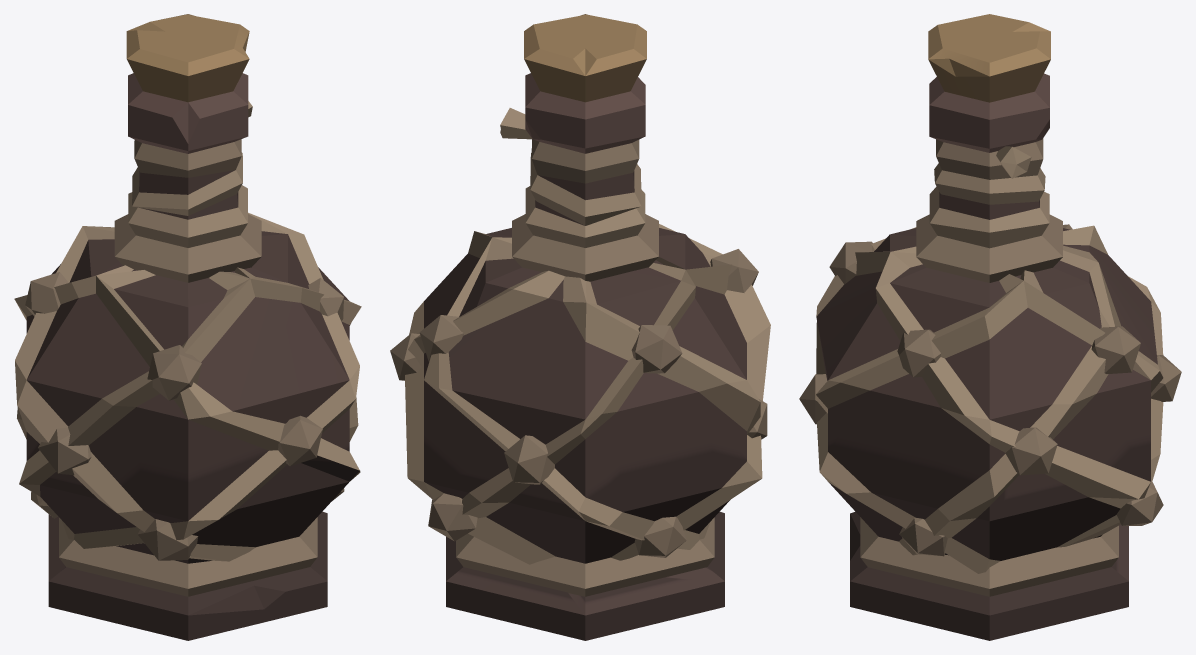
The model's file is SM_Prop_Bottle_02.fbx.
The picture shows the model from 3 angles, left to right: view 1: azimuth 30°, elevation 25°; view 2: azimuth 150°, elevation 25°; view 3: azimuth 270°, elevation 25°; orthographic projection.
Visible parts, largest first — view 1: SM_Prop_Bottle_02; view 2: SM_Prop_Bottle_02; view 3: SM_Prop_Bottle_02.
Part boxes in pixels (x1,y1,x2,y2): SM_Prop_Bottle_02: [14, 14, 361, 640]; SM_Prop_Bottle_02: [390, 14, 770, 640]; SM_Prop_Bottle_02: [799, 14, 1181, 640].
Bounding box in the file's own units: 35.25 × 52.56 × 34.04.
